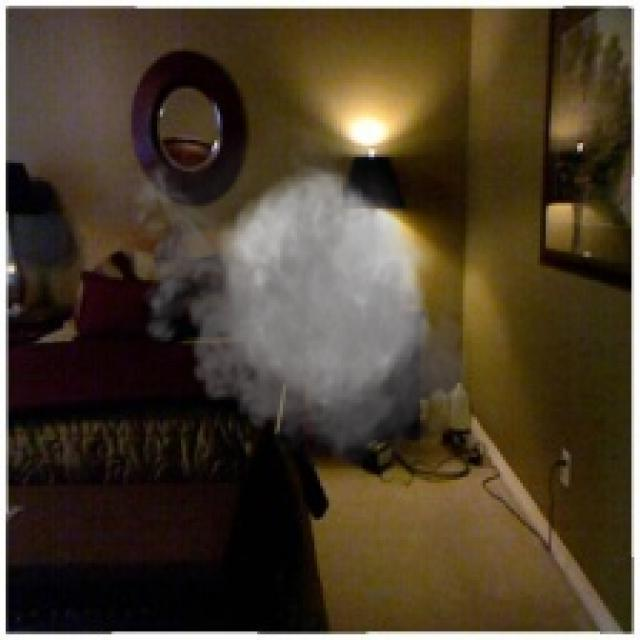Smoke: (123, 102, 483, 478)
